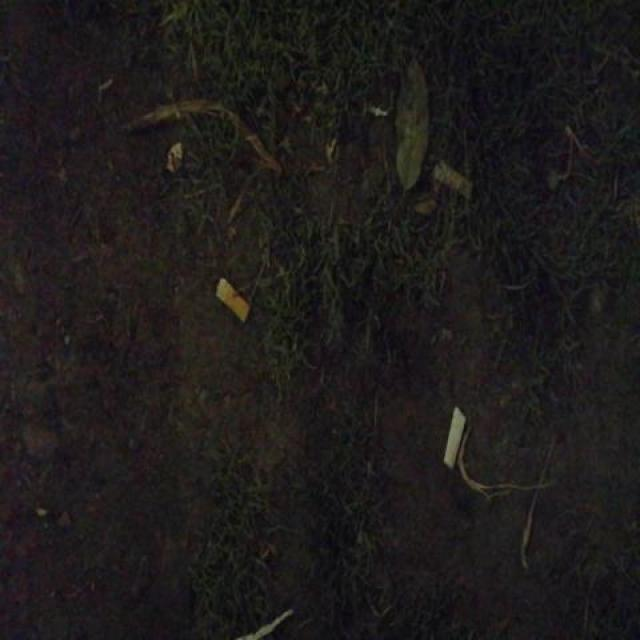non-organic waste: (429, 152, 476, 208), (210, 272, 253, 325), (439, 400, 469, 472)
